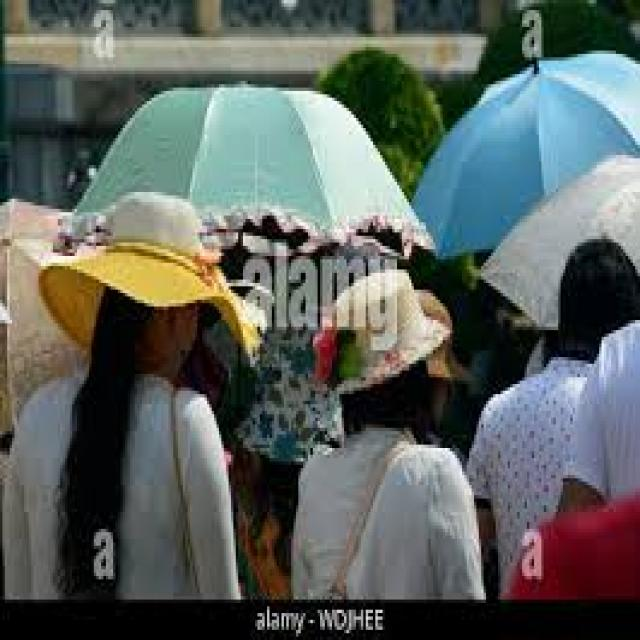hat: (41, 187, 256, 345), (294, 258, 454, 409)
